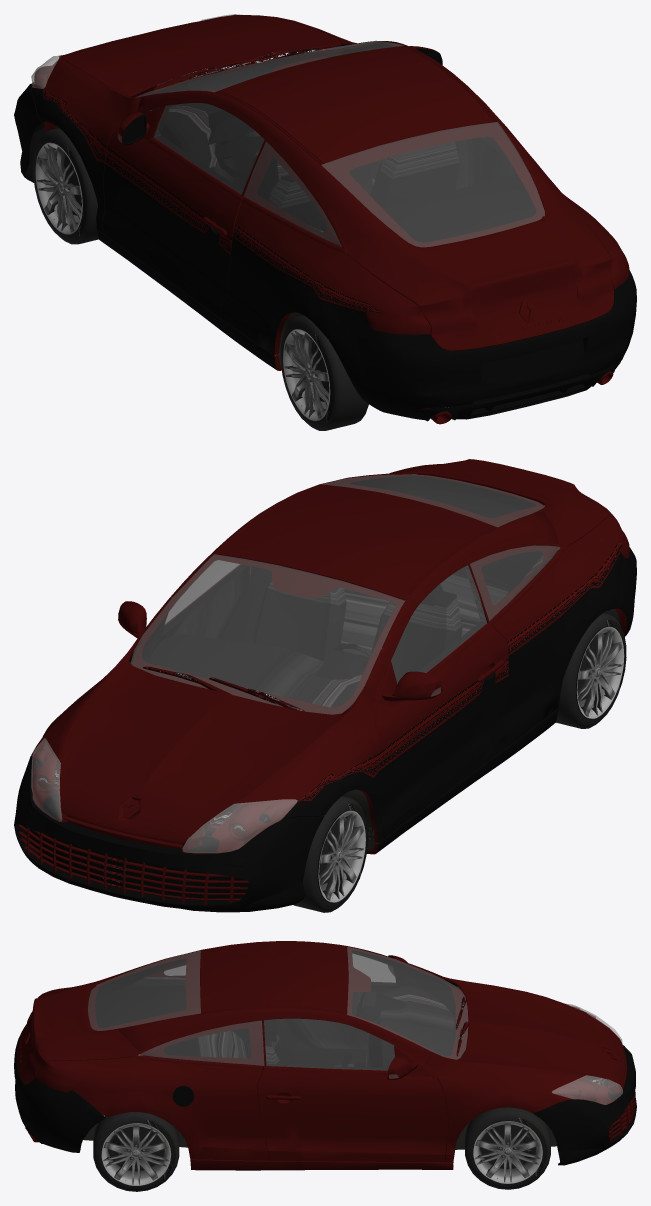
Rendered from renault_laguna.glb.
3 renders of one model, top to bottom at view 1: azimuth 30°, elevation 25°; view 2: azimuth 150°, elevation 25°; view 3: azimuth 270°, elevation 25°, orthographic. The views are drawn at different scales.
Visible parts, largest first — view 1: Object_4, Object_6, Object_7, Object_9, Object_8; view 2: Object_4, Object_6, Object_7, Object_9, Object_2, Object_8, Object_3; view 3: Object_4, Object_6, Object_7, Object_8, Object_9, Object_2, Object_3.
Boxes of the visible parts, x1=… form: Object_4: x1=14, y1=14, x2=636, y2=424; Object_6: x1=118, y1=40, x2=544, y2=247; Object_7: x1=148, y1=43, x2=536, y2=244; Object_9: x1=35, y1=142, x2=330, y2=421; Object_8: x1=33, y1=128, x2=368, y2=430; Object_4: x1=14, y1=459, x2=636, y2=912; Object_6: x1=130, y1=474, x2=560, y2=714; Object_7: x1=129, y1=475, x2=556, y2=707; Object_9: x1=317, y1=626, x2=624, y2=903; Object_2: x1=31, y1=738, x2=297, y2=853; Object_8: x1=293, y1=613, x2=626, y2=912; Object_3: x1=342, y1=609, x2=619, y2=850; Object_4: x1=14, y1=941, x2=636, y2=1170; Object_6: x1=88, y1=947, x2=468, y2=1078; Object_7: x1=95, y1=950, x2=459, y2=1077; Object_8: x1=93, y1=1107, x2=550, y2=1191; Object_9: x1=101, y1=1120, x2=542, y2=1186; Object_2: x1=552, y1=1003, x2=622, y2=1104; Object_3: x1=83, y1=1122, x2=556, y2=1166.
Bounding box in the file's own units: 0.6462 × 0.4491 × 1.48.
Materials: 7 (5 with a texture image).
